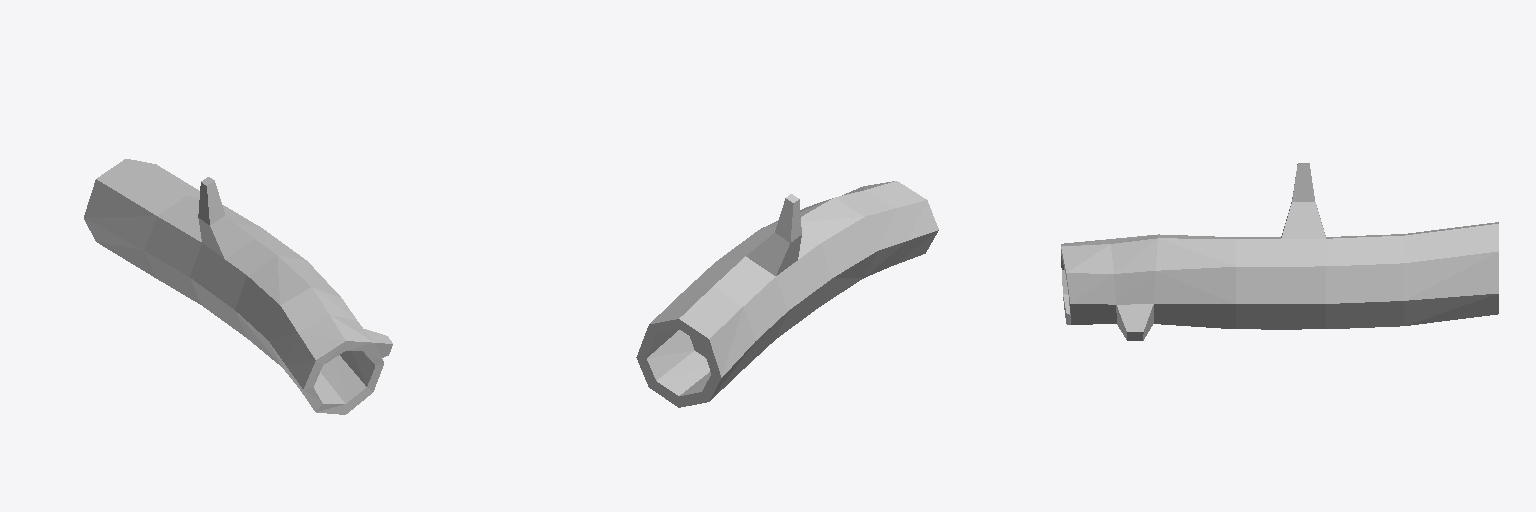
The model's file is log3.obj.
3 views of the same model, side by side, from view 1: azimuth 30°, elevation 25°; view 2: azimuth 150°, elevation 25°; view 3: azimuth 270°, elevation 25° (orthographic).
Visible parts, largest first — view 1: Log3_Cylinder.043; view 2: Log3_Cylinder.043; view 3: Log3_Cylinder.043.
Part boxes in pixels (left/top/right/bottom): Log3_Cylinder.043: left=84, top=159, right=392, bottom=414; Log3_Cylinder.043: left=636, top=181, right=938, bottom=407; Log3_Cylinder.043: left=1061, top=163, right=1498, bottom=340.
Size of the model in its own units: 1.17 by 1.36 by 3.51.